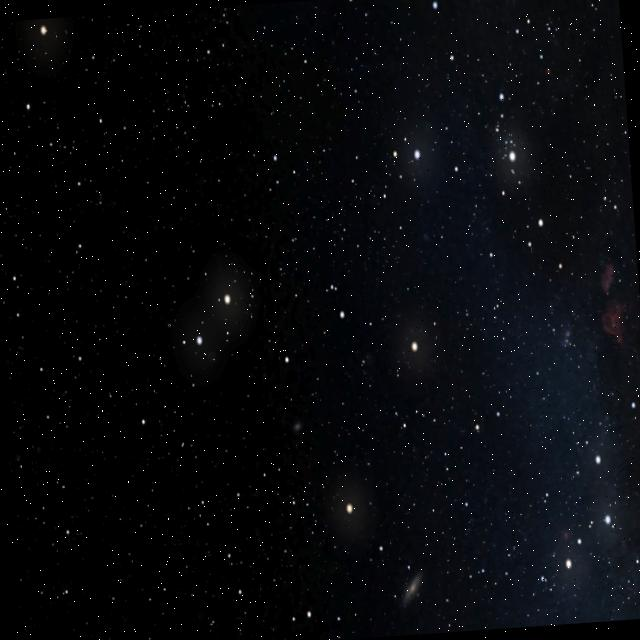Triangulum: (274, 268, 352, 372)
